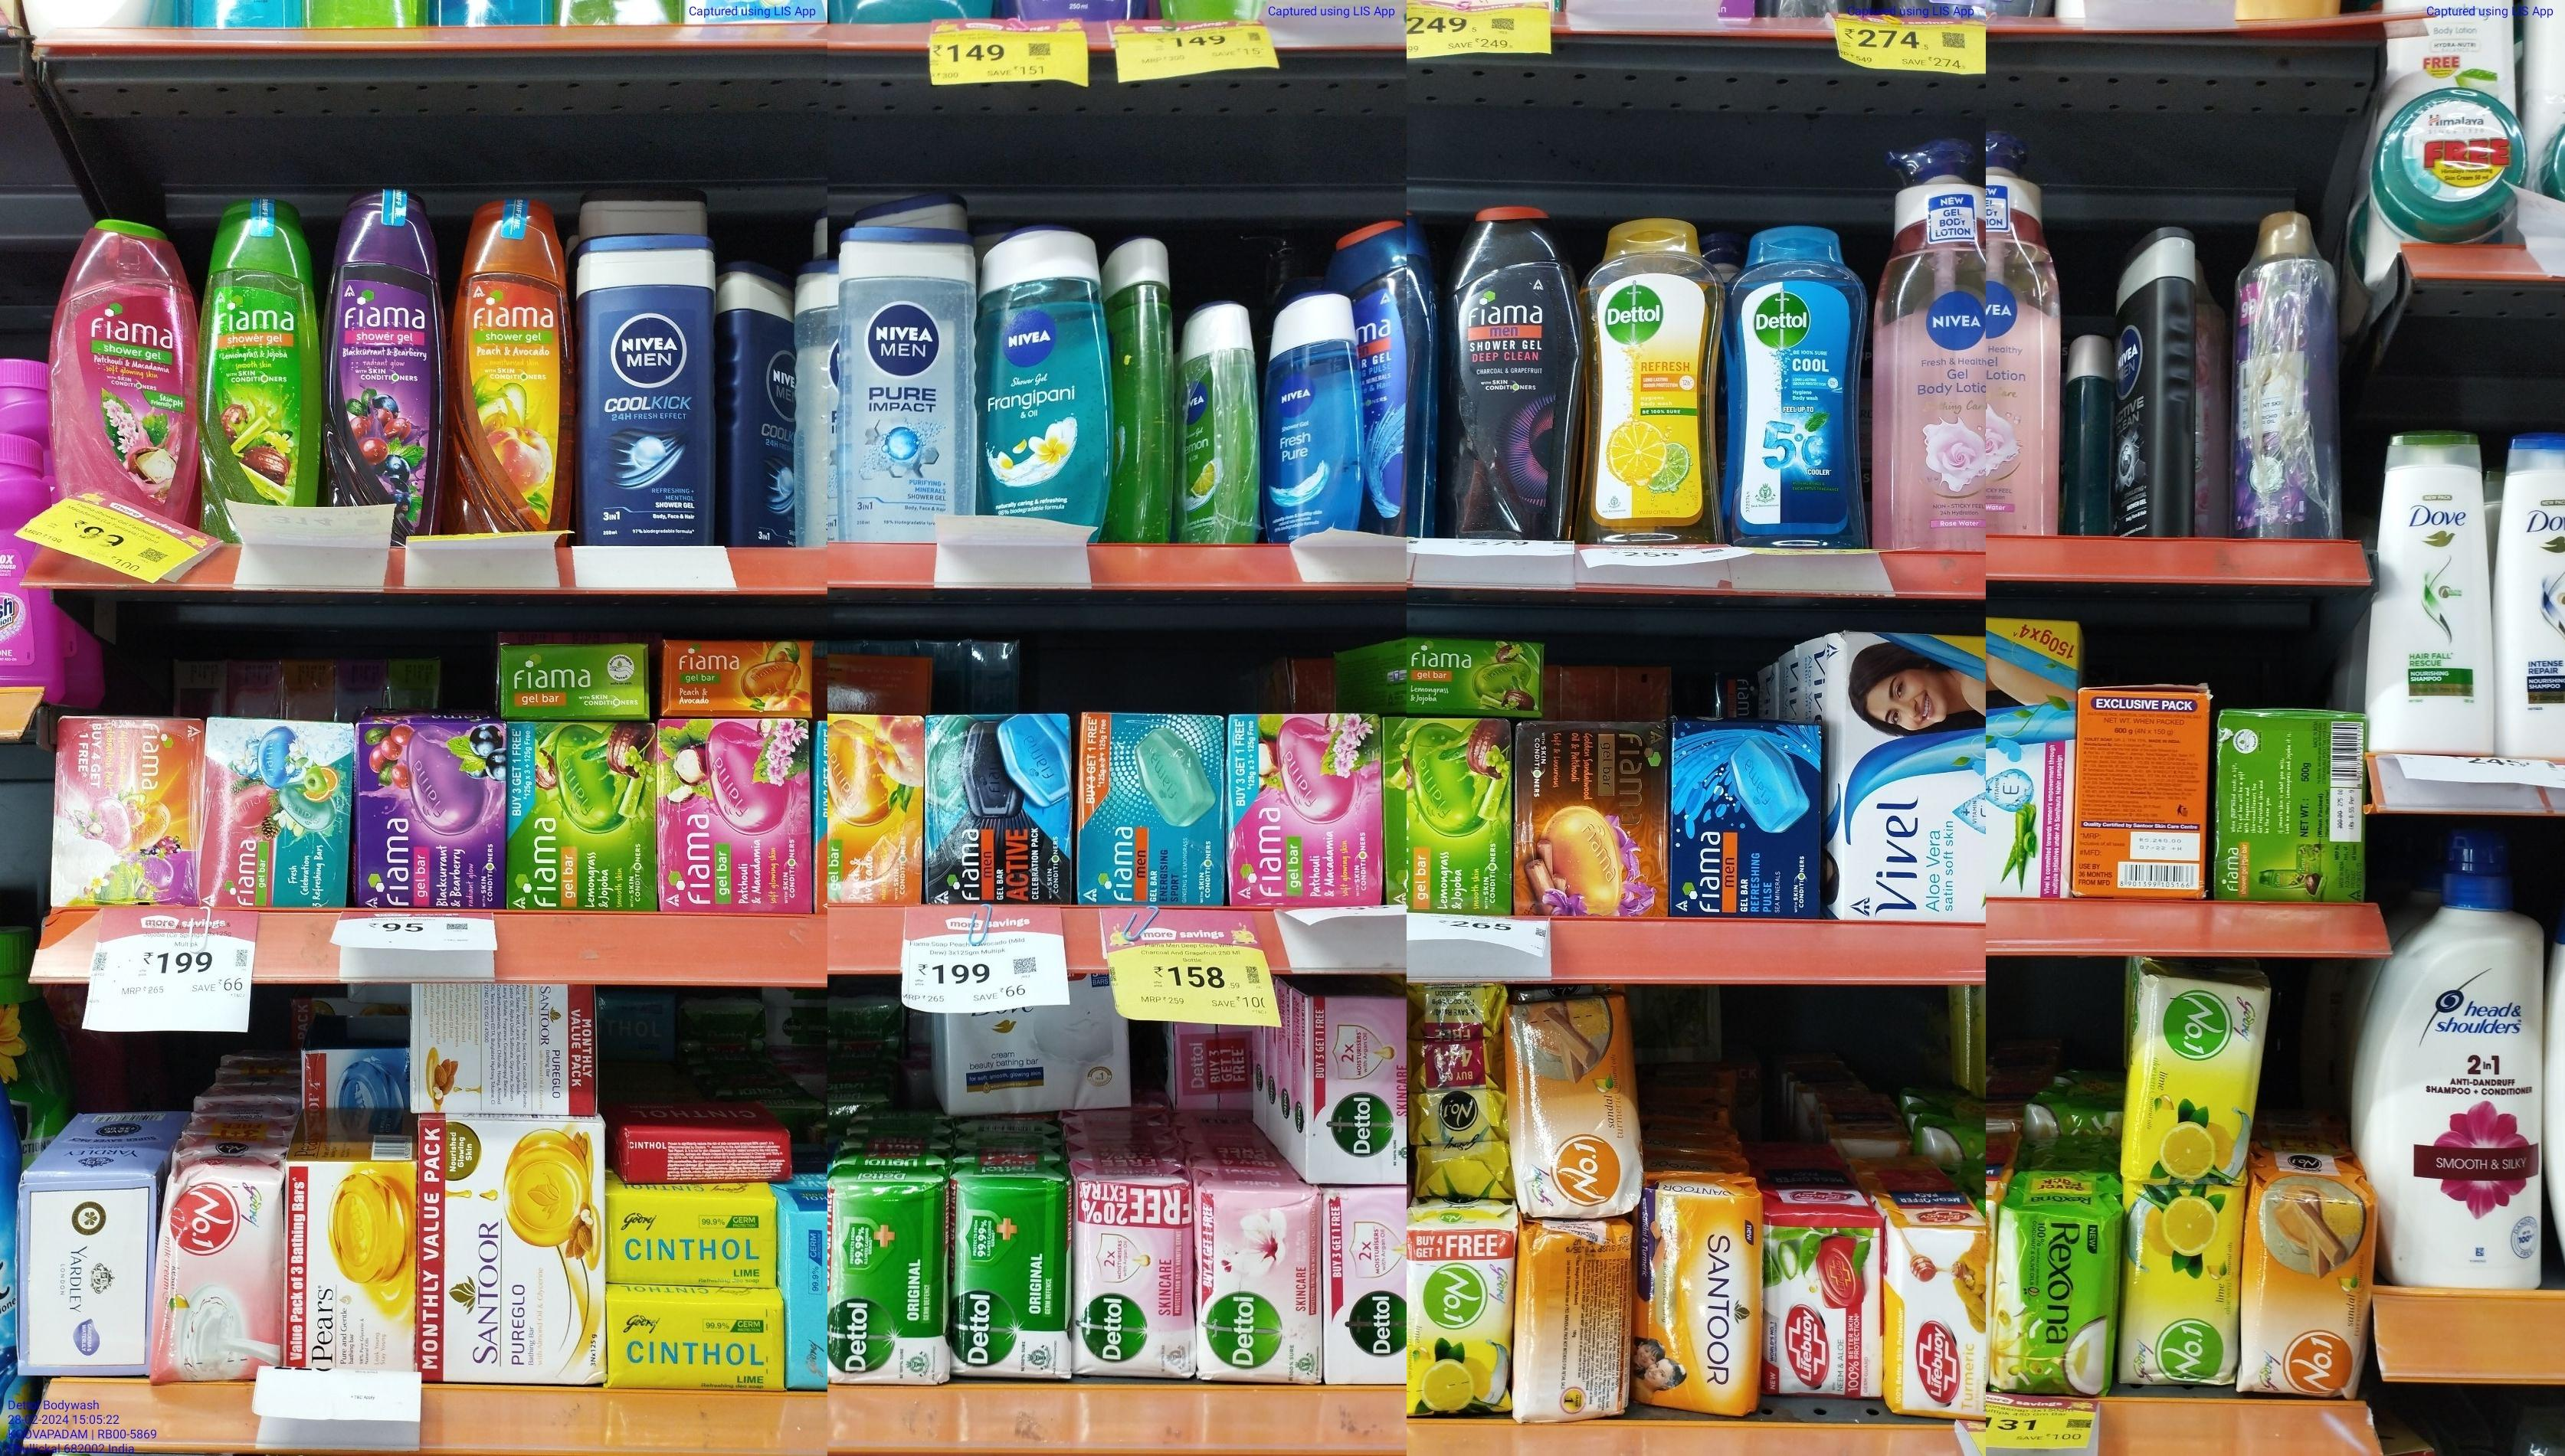Dettol_Bodywash_Cool: (1728, 218, 1869, 553)
Dettol_Bodywash_Refresh: (1582, 213, 1723, 549)
Fiama_Shower_Gel_Patchouli_and_Macadamia_250ML: (67, 215, 192, 533)
Lux_Black_Orchid_Scent_and_Juniper_Oil_Body_Wash_245ML: (2232, 202, 2338, 539)
Nivea_Shower_Gel_Frangipani_and_Oil_250ML: (974, 211, 1105, 540)
